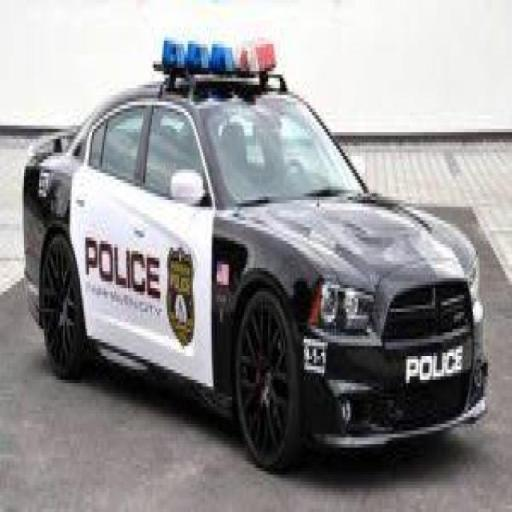Ambulance: (22, 22, 485, 468)
